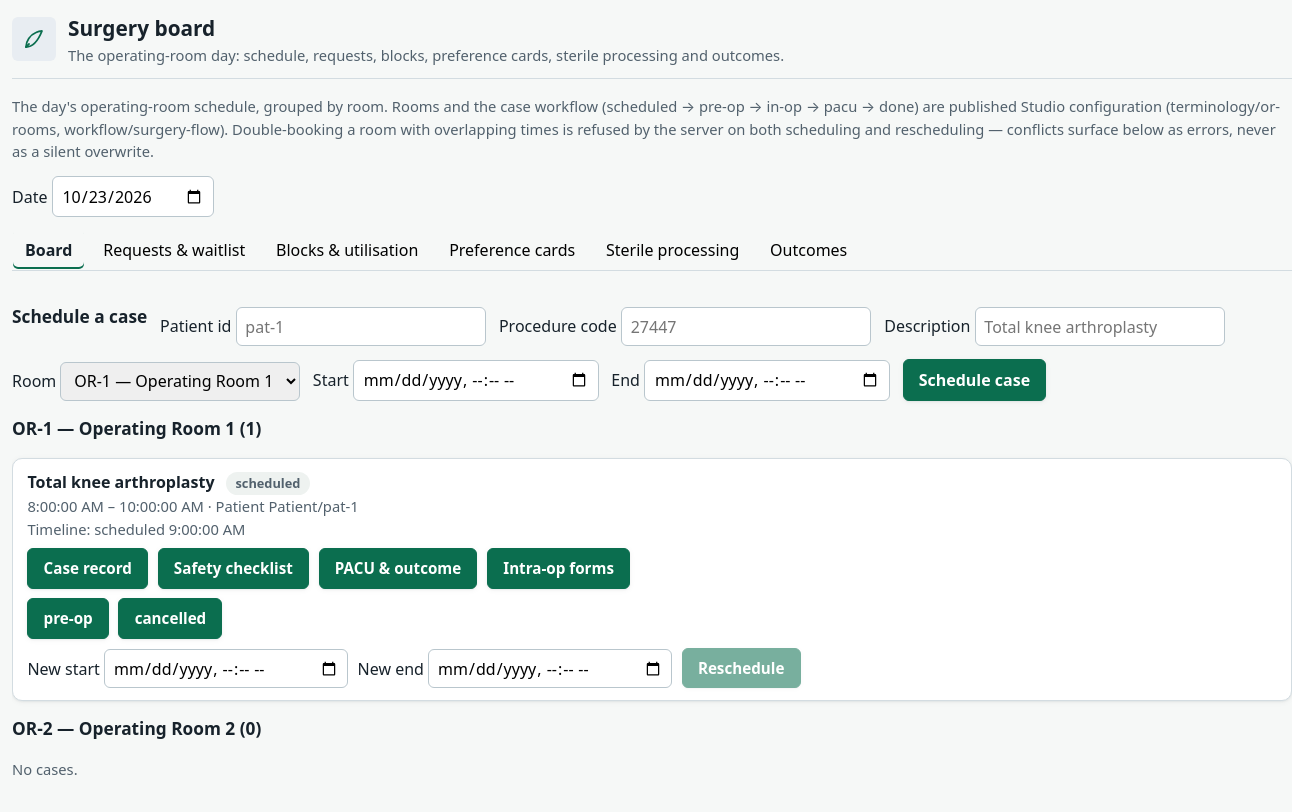
Test case: SurgeryBoardPage › surfaces a room double-booking conflict (409) as an inline error
Expected: the text "Total knee arthroplasty" is shown, [27,471,214,493]
Type "pat-9" into the field named "Case patient id" at (361, 326), box [236,307,486,346]
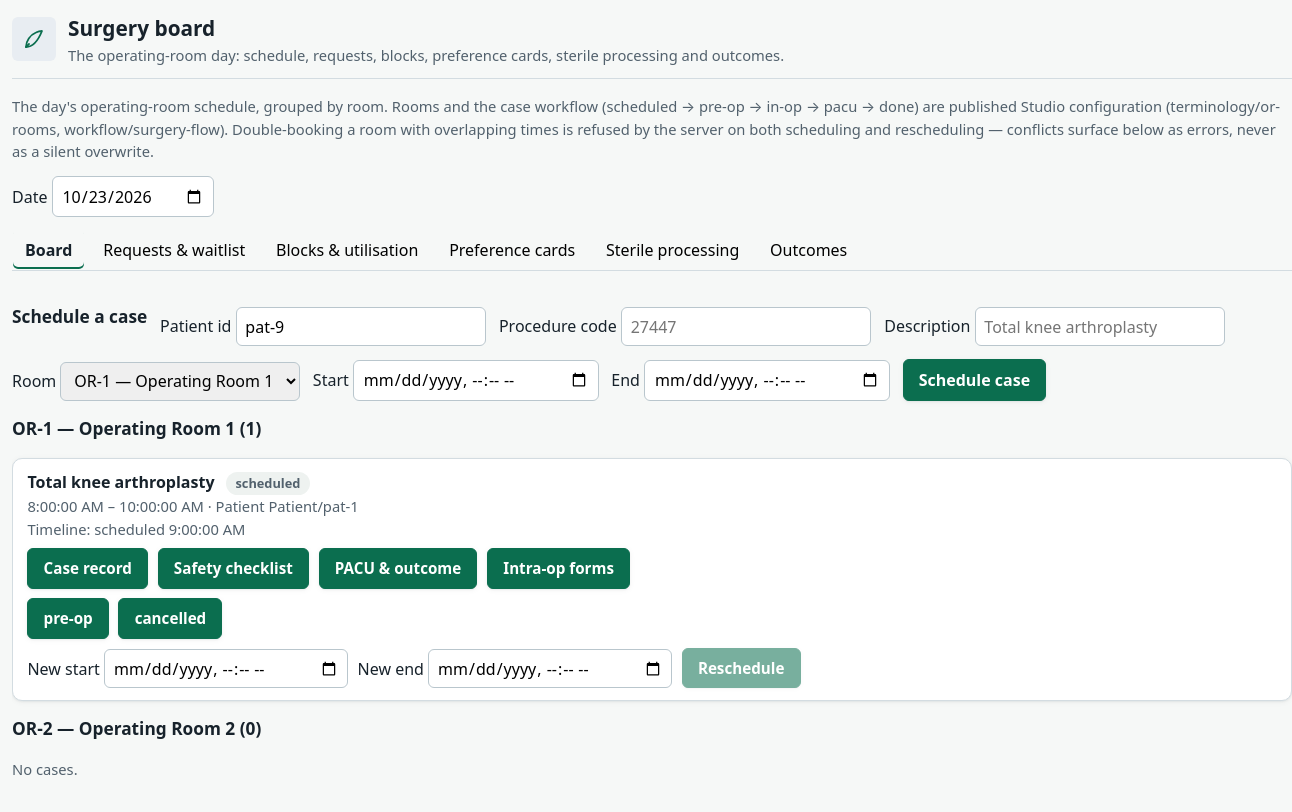
Type "27130" into the field labelled "Procedure code" at (746, 326), box [621,307,872,346]
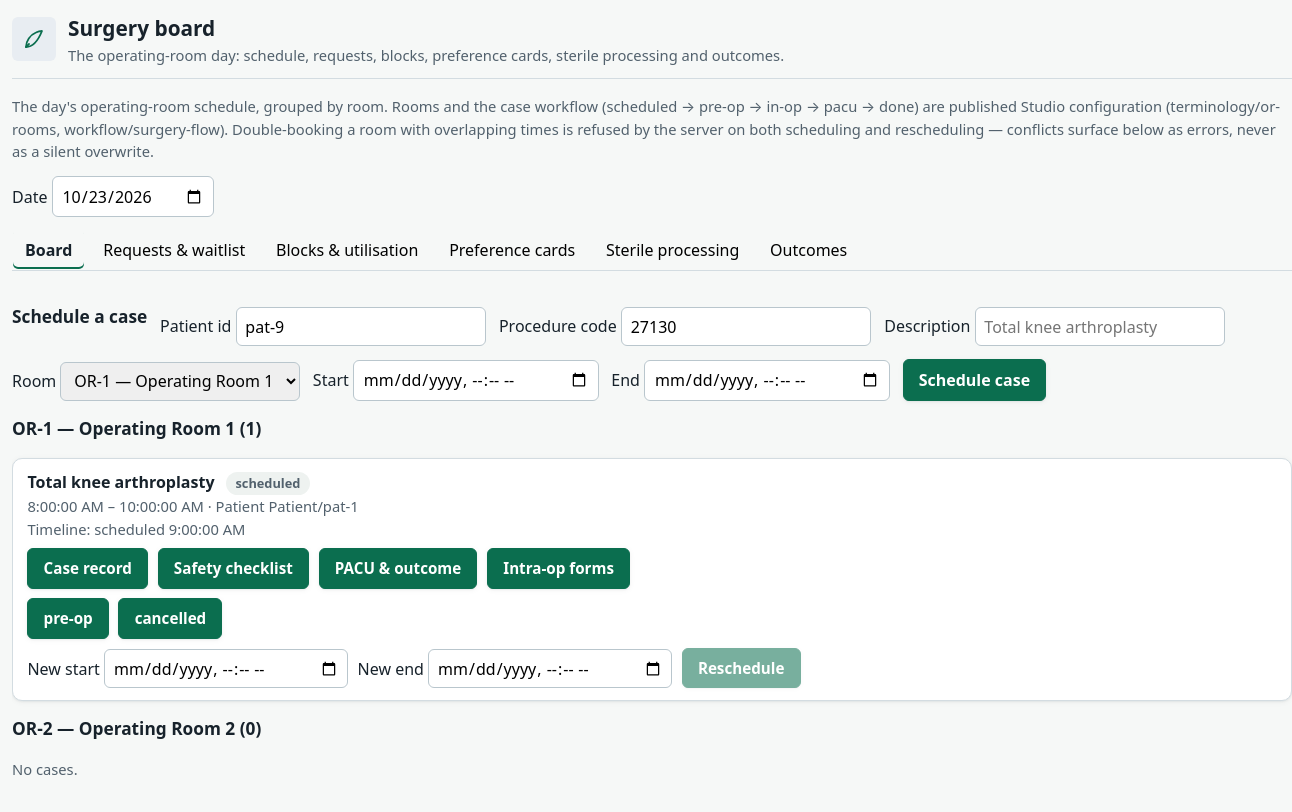
Type "2026-10-20T09:00" into the field named "Case start" at (476, 380), box [353,360,598,401]
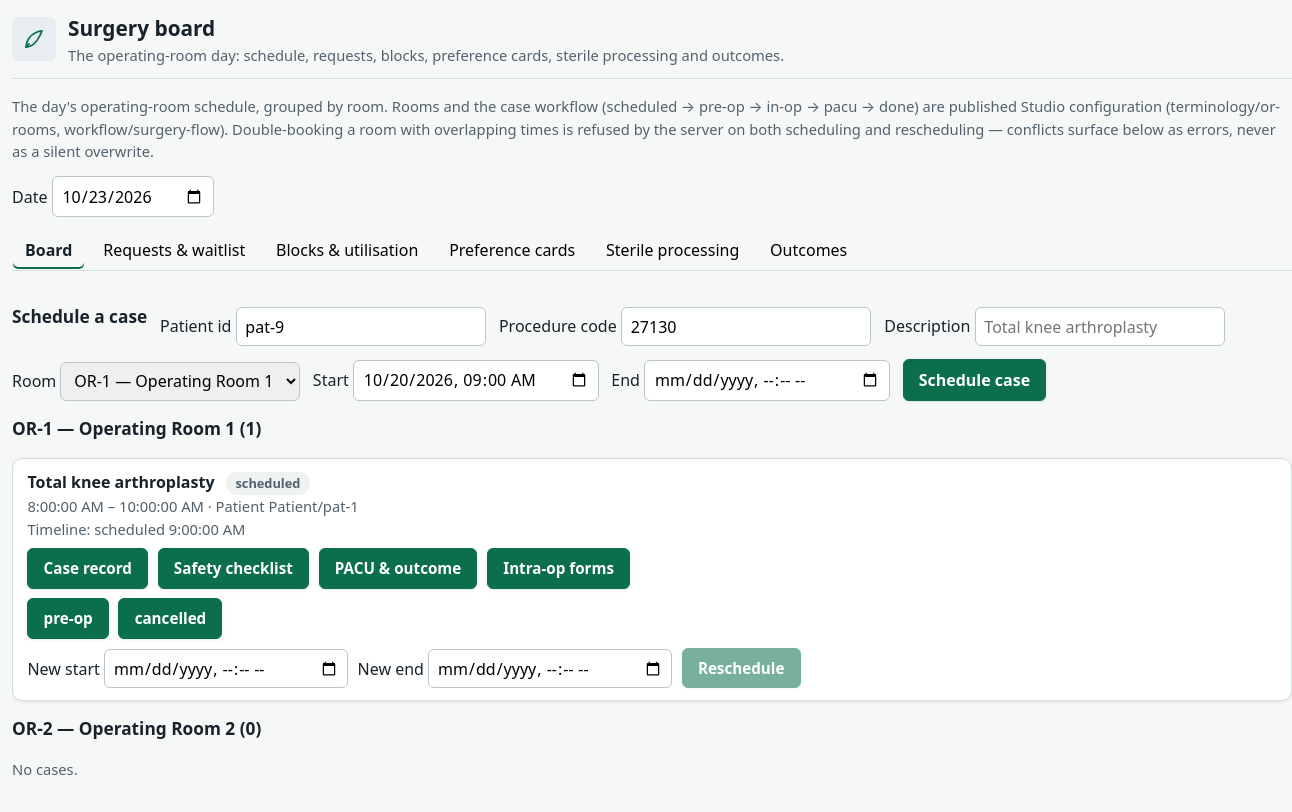
Type "2026-10-20T11:00" into the field named "Case end" at (767, 380), box [644,360,890,401]
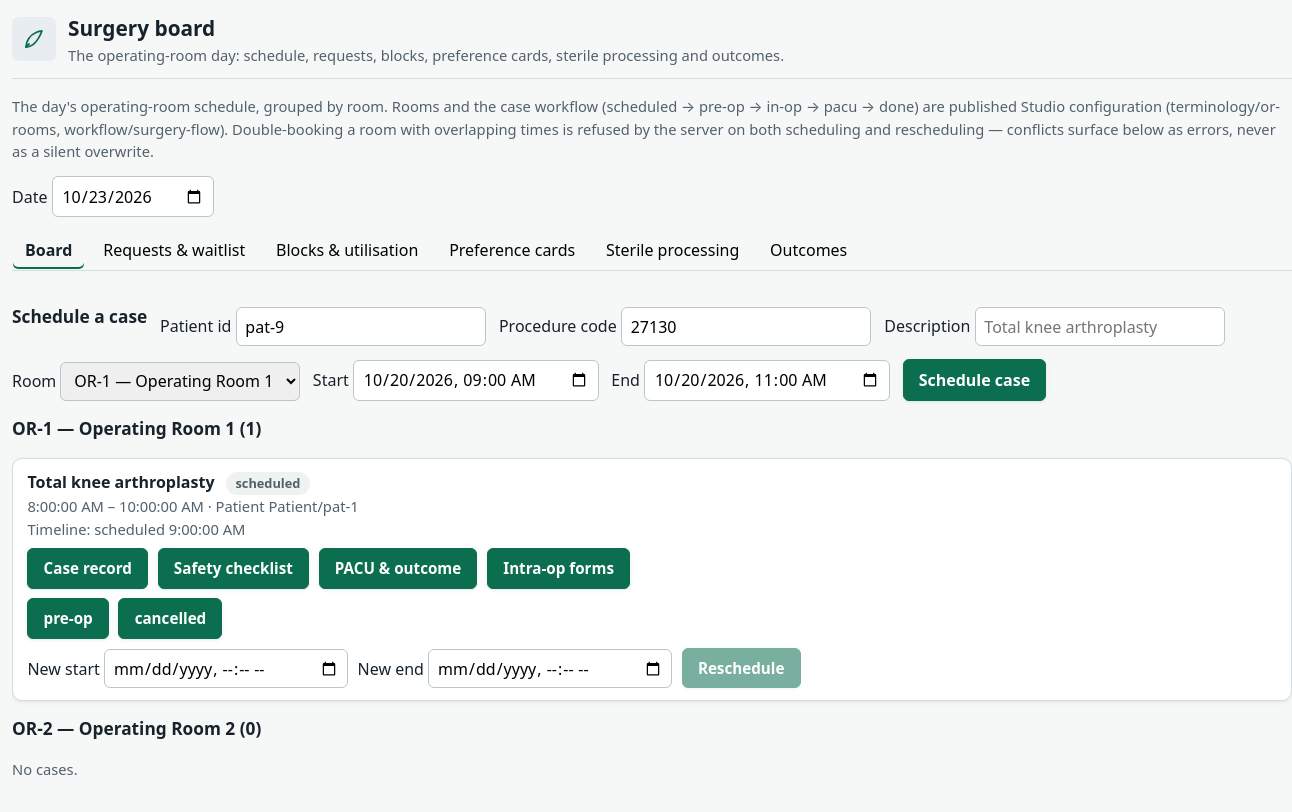
Click the button "Schedule case" at (974, 380), box [902,359,1046,401]
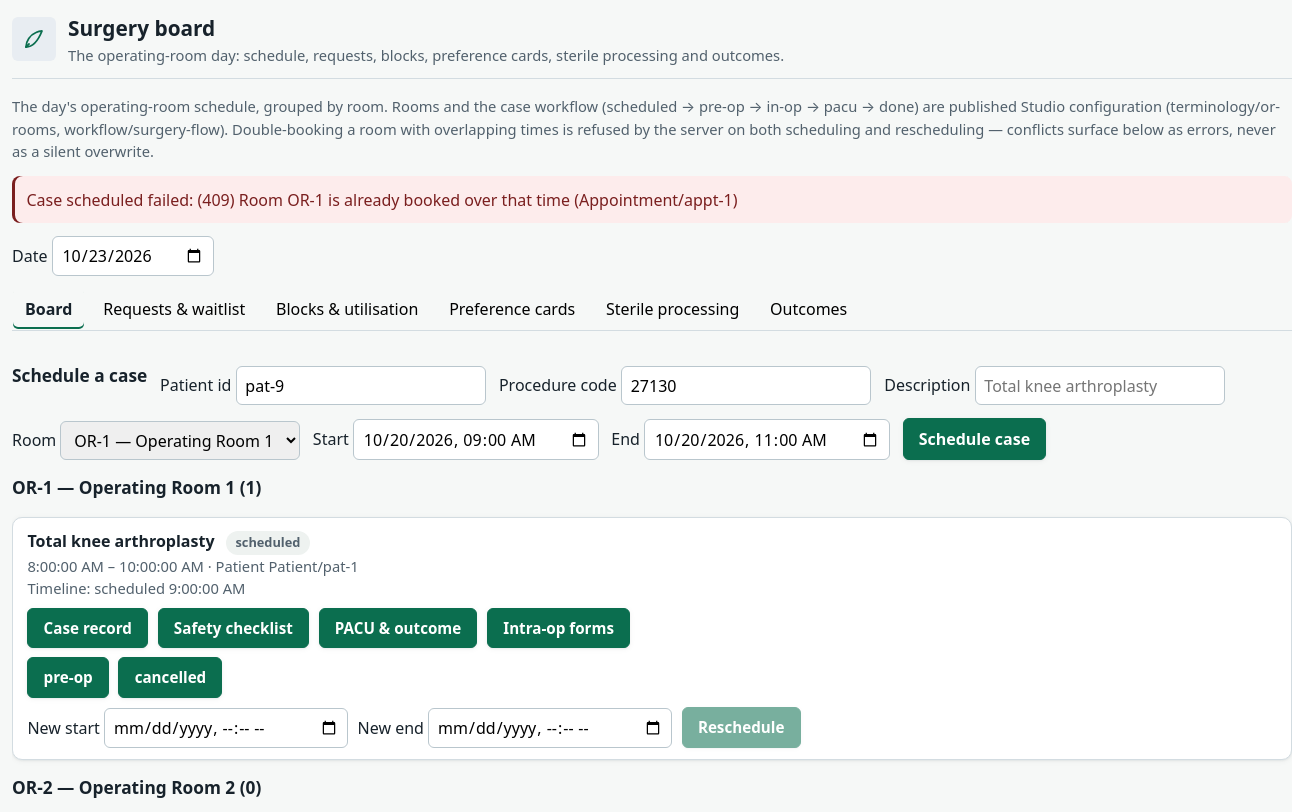
Result: the text "already booked over that time" is shown at [26,189,738,211]
